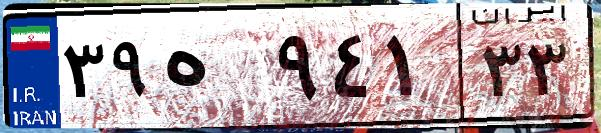1: (385, 28, 445, 110)
3: (57, 26, 110, 100), (475, 38, 525, 113), (525, 38, 570, 115)
4: (330, 28, 385, 110)
9: (270, 28, 330, 110), (110, 28, 158, 98)
ه: (158, 20, 270, 120)
